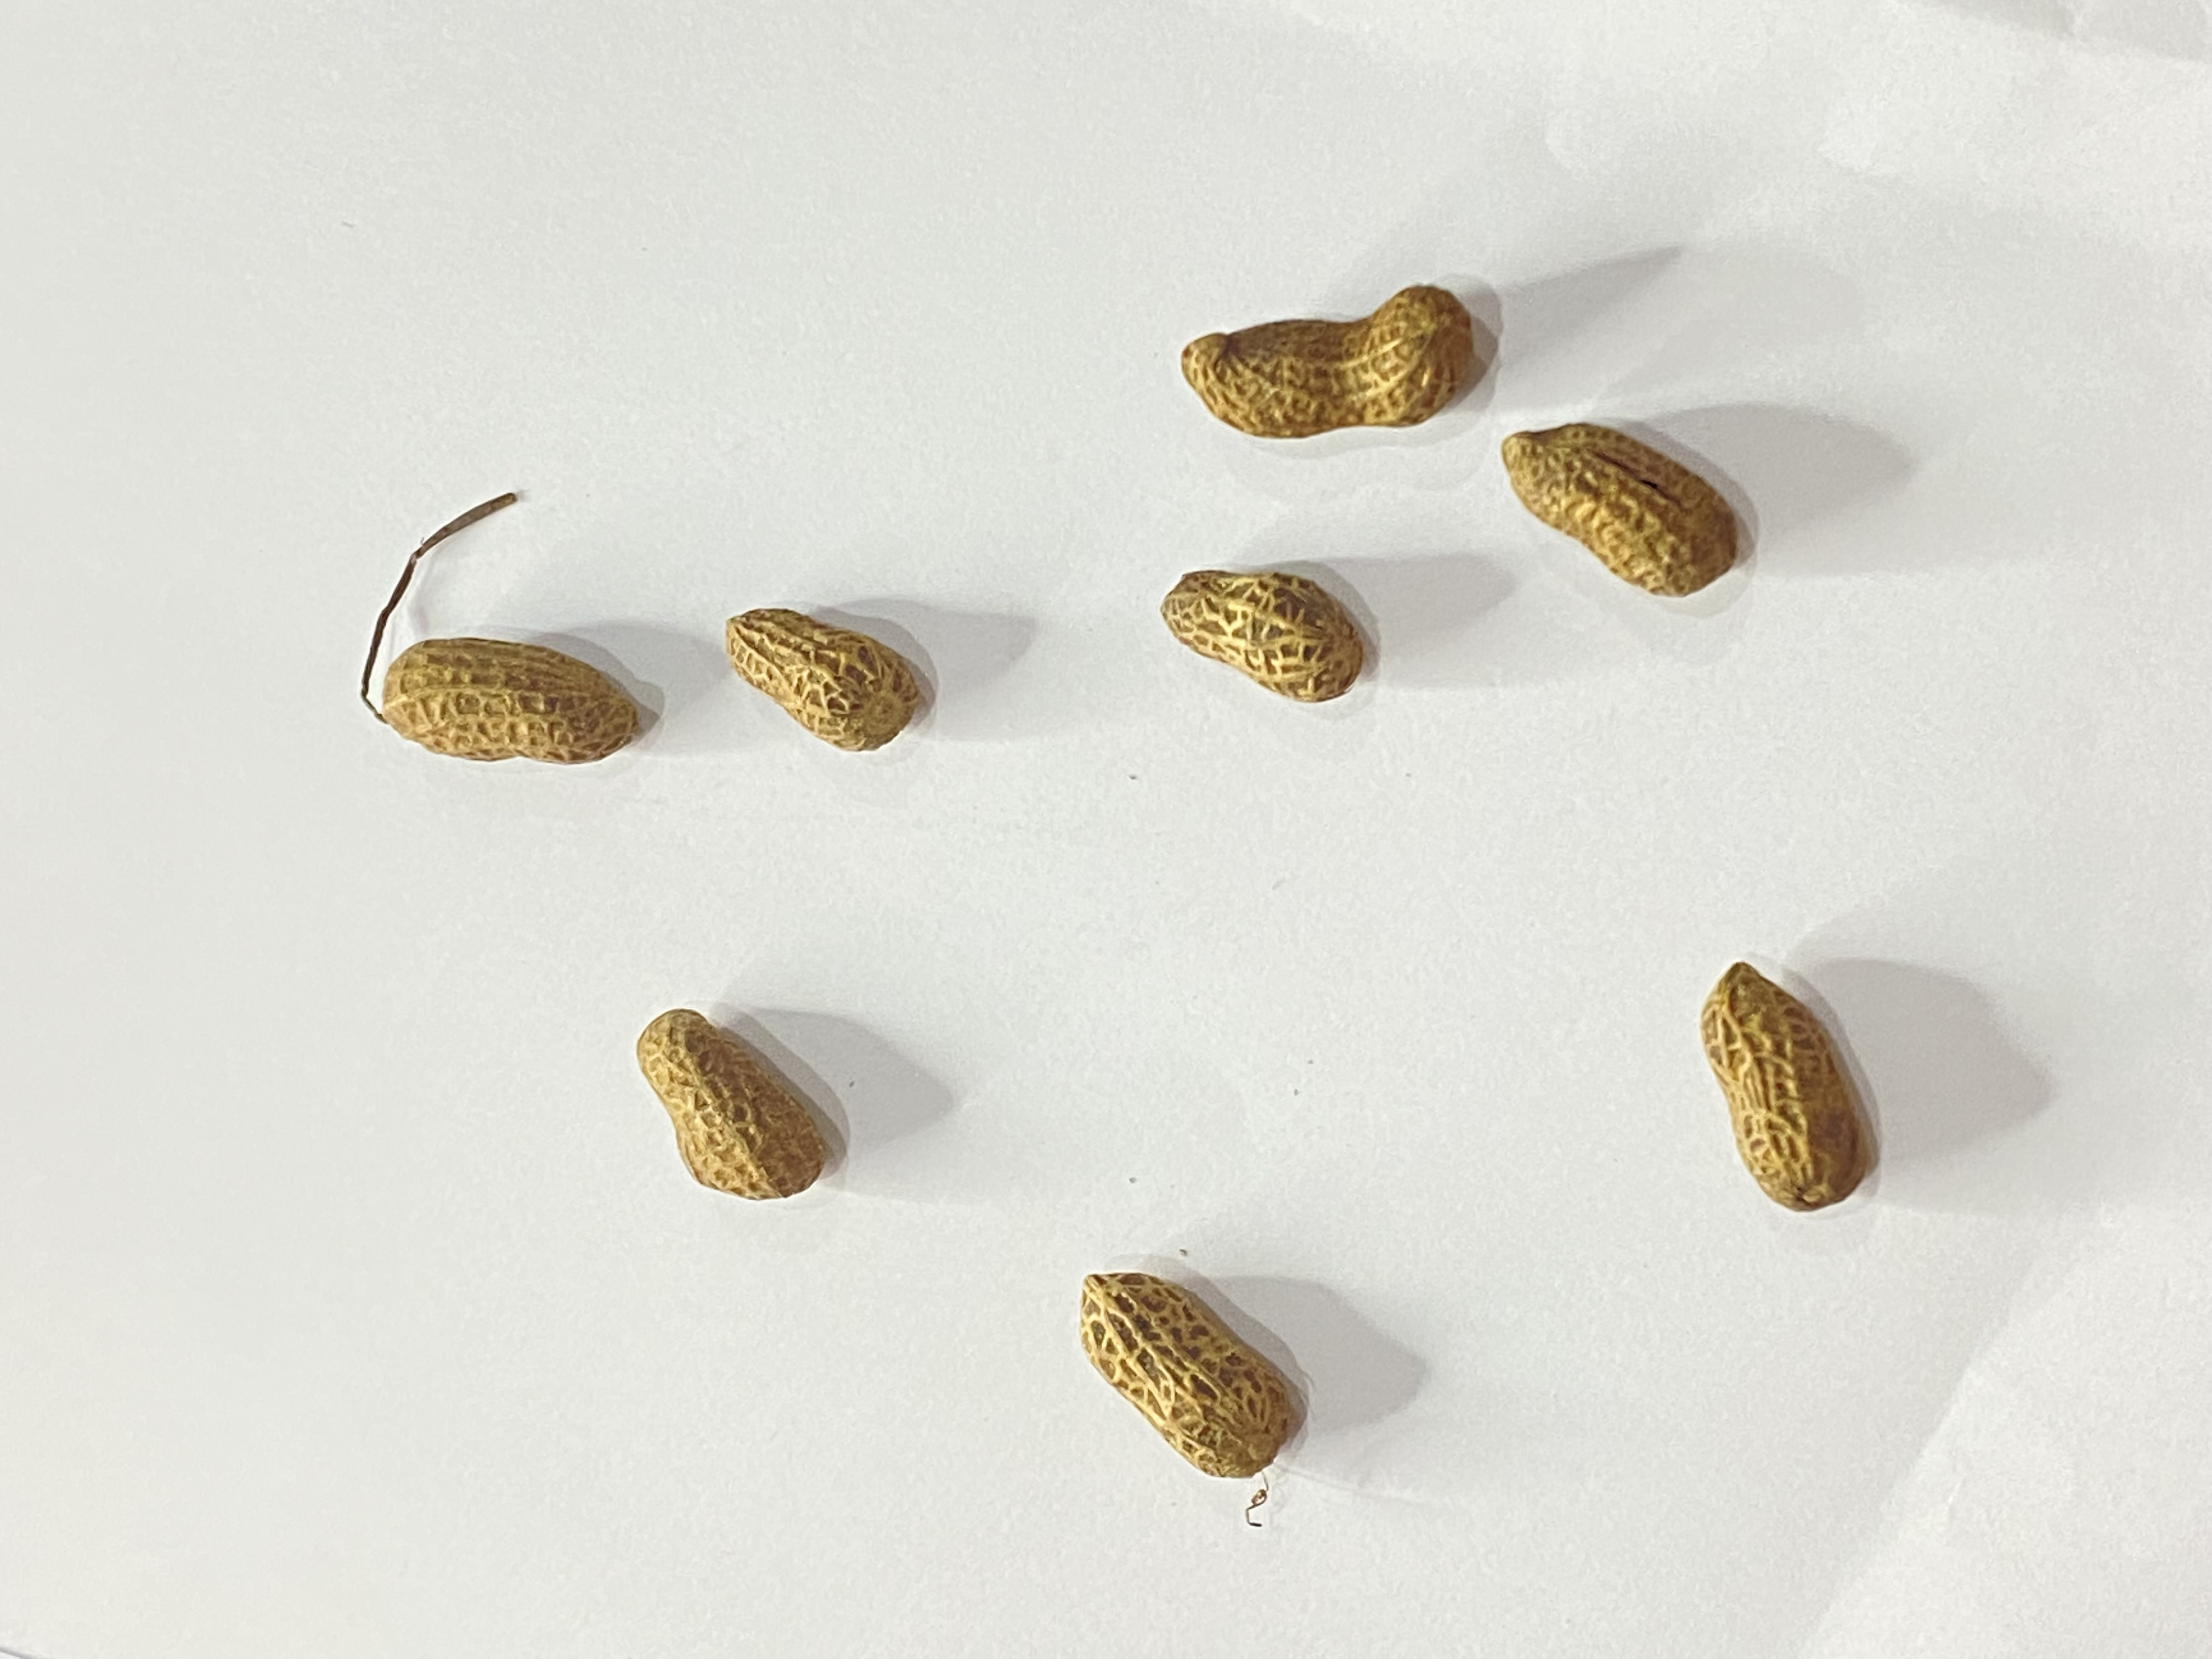kacang1: (1165, 270, 1479, 450), (1132, 542, 1397, 711)
kacang2: (1021, 1249, 1317, 1497), (1688, 950, 1897, 1218), (1491, 427, 1778, 606), (354, 638, 690, 782), (627, 976, 838, 1206), (702, 596, 956, 774)
